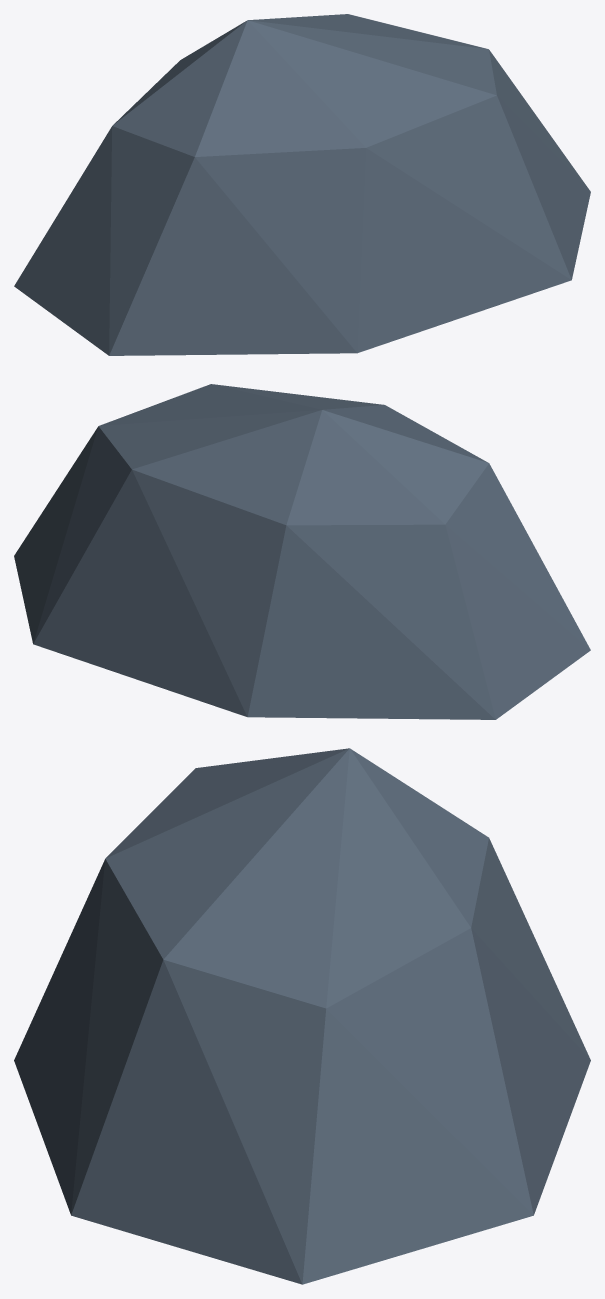
3 renders of one model, top to bottom at view 1: azimuth 30°, elevation 25°; view 2: azimuth 150°, elevation 25°; view 3: azimuth 270°, elevation 25°, orthographic. The views are drawn at different scales.
Visible parts, largest first — view 1: 区域散石_Slate.001; view 2: 区域散石_Slate.001; view 3: 区域散石_Slate.001.
Part boxes in pixels (x1=…): 区域散石_Slate.001: x1=14, y1=14, x2=590, y2=355; 区域散石_Slate.001: x1=14, y1=384, x2=590, y2=719; 区域散石_Slate.001: x1=14, y1=748, x2=590, y2=1284.
Size of the model in its own units: 0.4182 by 0.18 by 0.2925.
